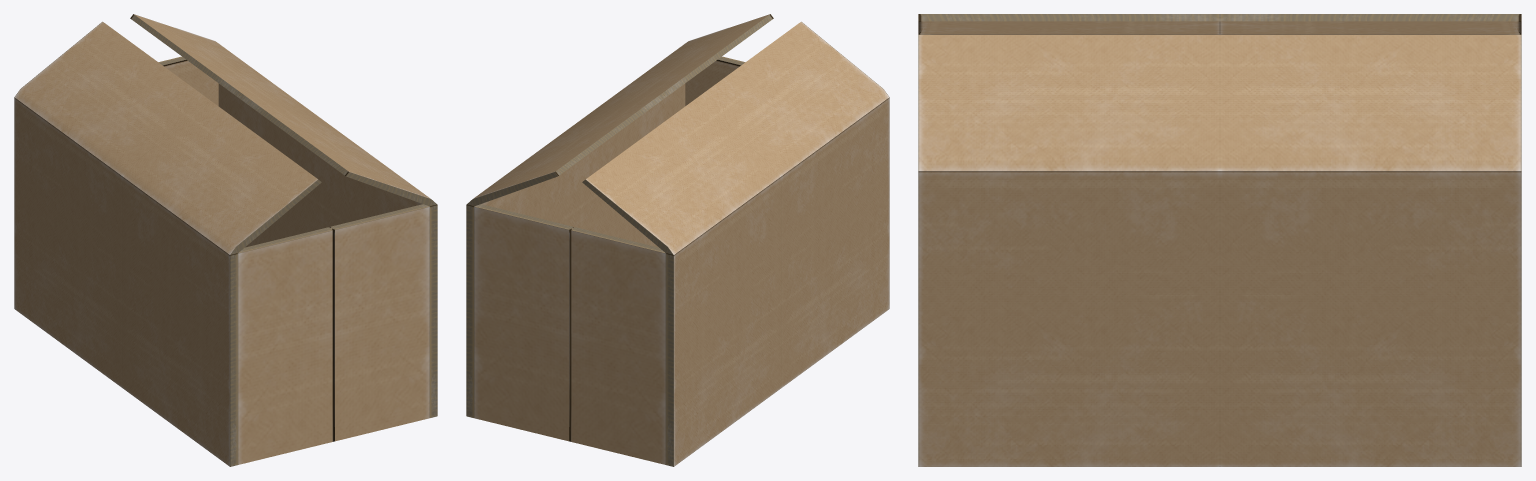
The model's file is Box_cardboard.fbx.
3 views of the same model, side by side, from view 1: azimuth 30°, elevation 25°; view 2: azimuth 150°, elevation 25°; view 3: azimuth 270°, elevation 25° (orthographic). The views are drawn at different scales.
Parts seen in each view (by area): view 1: Cube; view 2: Cube; view 3: Cube.
Boxes of the visible parts, bbox=[...] form: Cube: bbox=[14, 14, 437, 466]; Cube: bbox=[466, 14, 889, 466]; Cube: bbox=[918, 14, 1521, 466].
Bounding box in the file's own units: 204 × 250 × 368.
